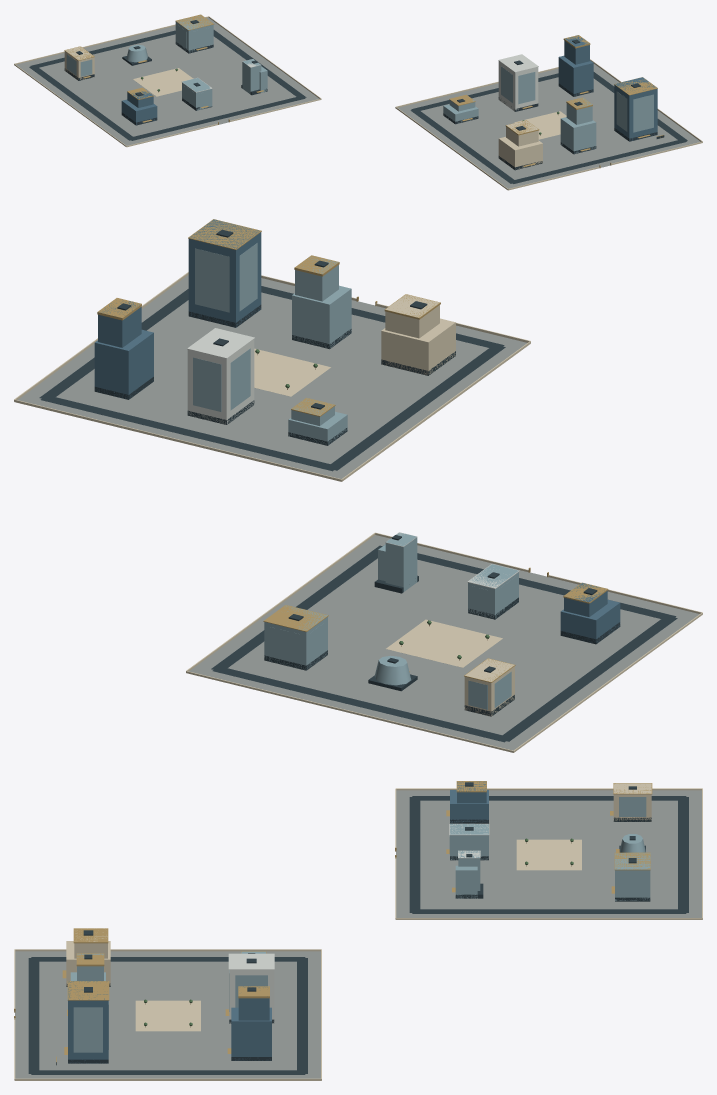
Rendered from GC-TILE-07-01.glb.
3 renders of one model, top to bottom at view 1: azimuth 30°, elevation 25°; view 2: azimuth 150°, elevation 25°; view 3: azimuth 270°, elevation 25°, orthographic. The views are drawn at different scales.
Visible parts, largest first — view 1: GC-TILE-07-01-paving, GC-TILE-07-01-glass, GC-TILE-07-01-dark, GC-TILE-07-01-ivory, GC-TILE-07-01-blue, GC-TILE-07-01-gold, GC-TILE-07-01-white; view 2: GC-TILE-07-01-paving, GC-TILE-07-01-glass, GC-TILE-07-01-dark, GC-TILE-07-01-ivory, GC-TILE-07-01-blue, GC-TILE-07-01-gold, GC-TILE-07-01-white; view 3: GC-TILE-07-01-paving, GC-TILE-07-01-dark, GC-TILE-07-01-ivory, GC-TILE-07-01-glass, GC-TILE-07-01-blue, GC-TILE-07-01-gold, GC-TILE-07-01-white.
Part boxes in pixels (bbox=[...]): GC-TILE-07-01-paving: bbox=[16, 17, 700, 188]; GC-TILE-07-01-glass: bbox=[66, 15, 653, 153]; GC-TILE-07-01-dark: bbox=[29, 20, 687, 183]; GC-TILE-07-01-ivory: bbox=[14, 16, 702, 190]; GC-TILE-07-01-blue: bbox=[121, 35, 657, 141]; GC-TILE-07-01-gold: bbox=[64, 14, 663, 168]; GC-TILE-07-01-white: bbox=[181, 54, 538, 111]; GC-TILE-07-01-paving: bbox=[18, 275, 699, 750]; GC-TILE-07-01-glass: bbox=[193, 243, 518, 709]; GC-TILE-07-01-dark: bbox=[39, 229, 677, 742]; GC-TILE-07-01-ivory: bbox=[14, 272, 702, 752]; GC-TILE-07-01-blue: bbox=[94, 219, 620, 642]; GC-TILE-07-01-gold: bbox=[97, 219, 608, 682]; GC-TILE-07-01-white: bbox=[187, 328, 519, 588]; GC-TILE-07-01-paving: bbox=[15, 790, 701, 1078]; GC-TILE-07-01-dark: bbox=[28, 782, 688, 1074]; GC-TILE-07-01-ivory: bbox=[14, 783, 702, 1080]; GC-TILE-07-01-glass: bbox=[70, 797, 650, 1052]; GC-TILE-07-01-blue: bbox=[68, 781, 488, 1063]; GC-TILE-07-01-gold: bbox=[14, 781, 652, 1062]; GC-TILE-07-01-white: bbox=[228, 824, 489, 1023].
Size of the model in its own units: 759 by 79.51 by 760.
